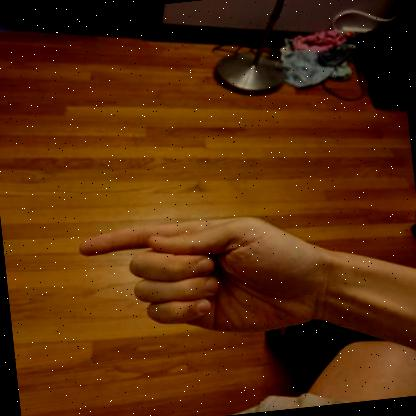G: (79, 216, 321, 332)
